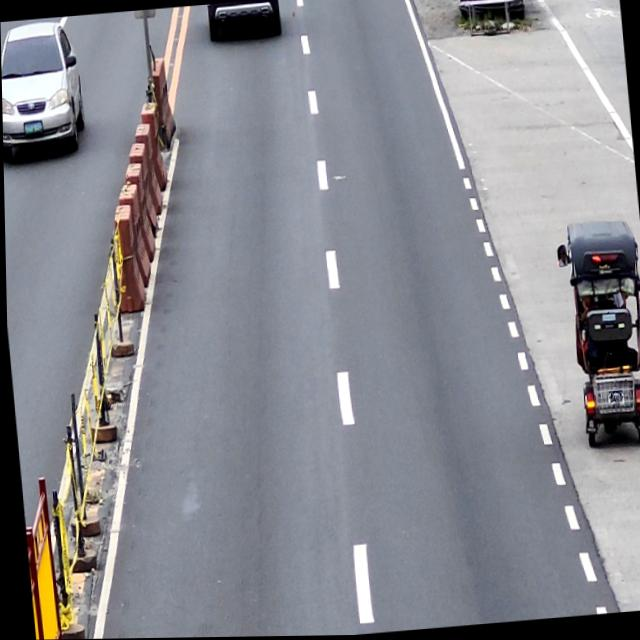E-bike: (551, 216, 640, 454)
